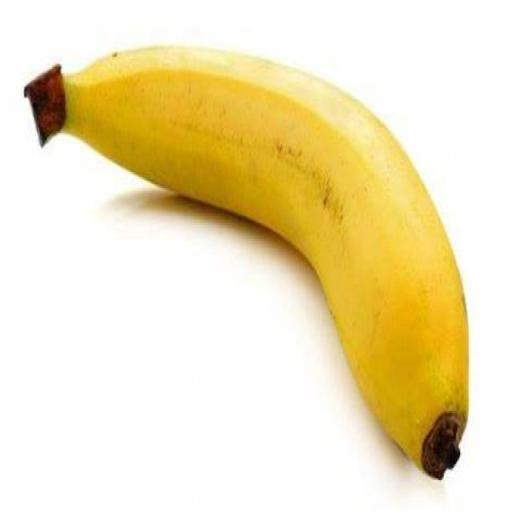fruit: (25, 48, 467, 478)
